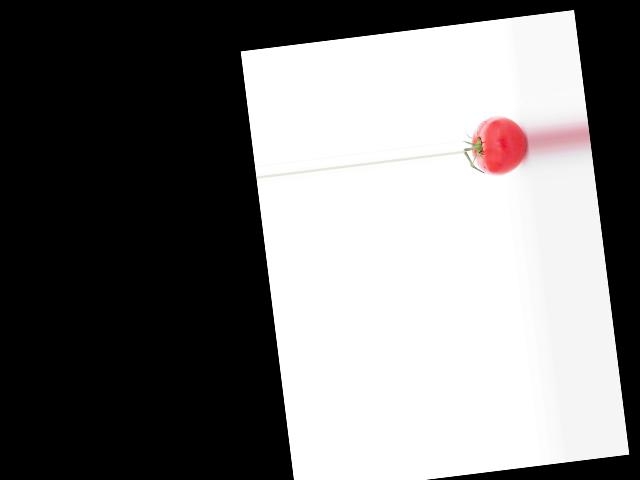tomato: (468, 112, 530, 177)
